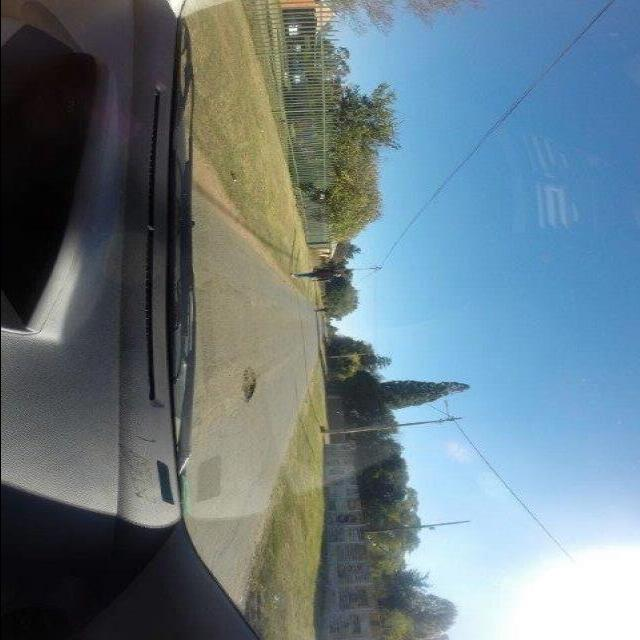lubang: (238, 363, 266, 407)
